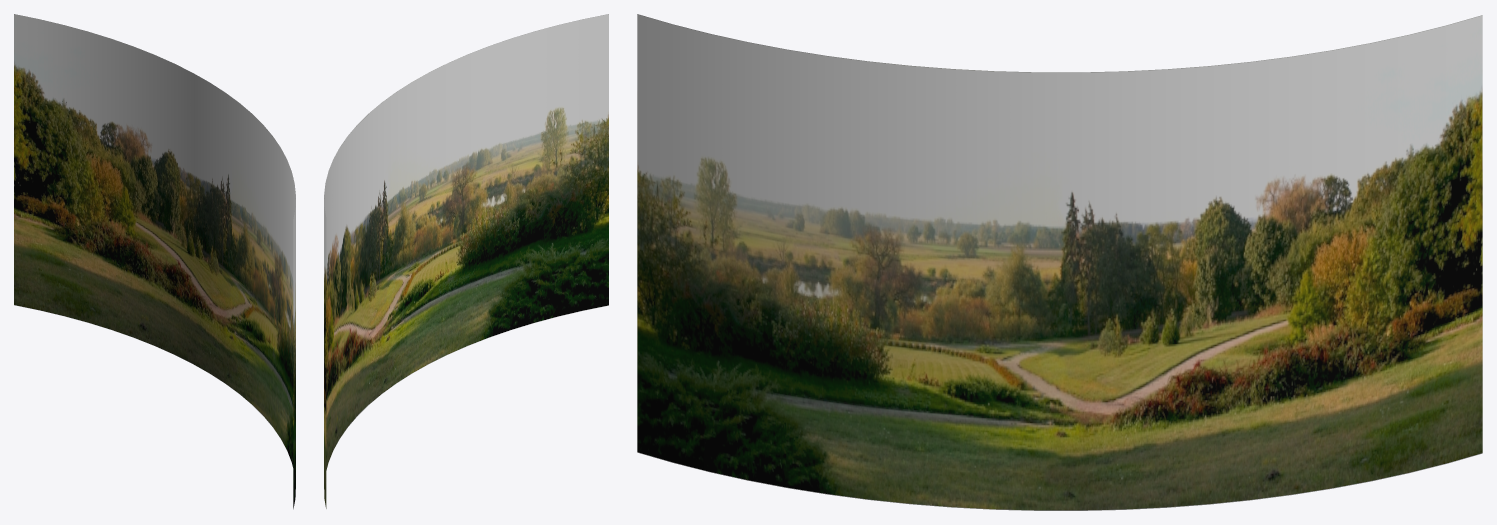
3 renders of one model, left to right at view 1: azimuth 30°, elevation 25°; view 2: azimuth 150°, elevation 25°; view 3: azimuth 270°, elevation 25°, orthographic. The views are drawn at different scales.
Parts seen in each view (by area): view 1: Arc001; view 2: Arc001; view 3: Arc001.
Part boxes in pixels (bbox=[...]): Arc001: bbox=[14, 14, 295, 509]; Arc001: bbox=[324, 14, 608, 508]; Arc001: bbox=[637, 14, 1482, 510].
Bounding box in the file's own units: 1713 × 6000 × 10480.
